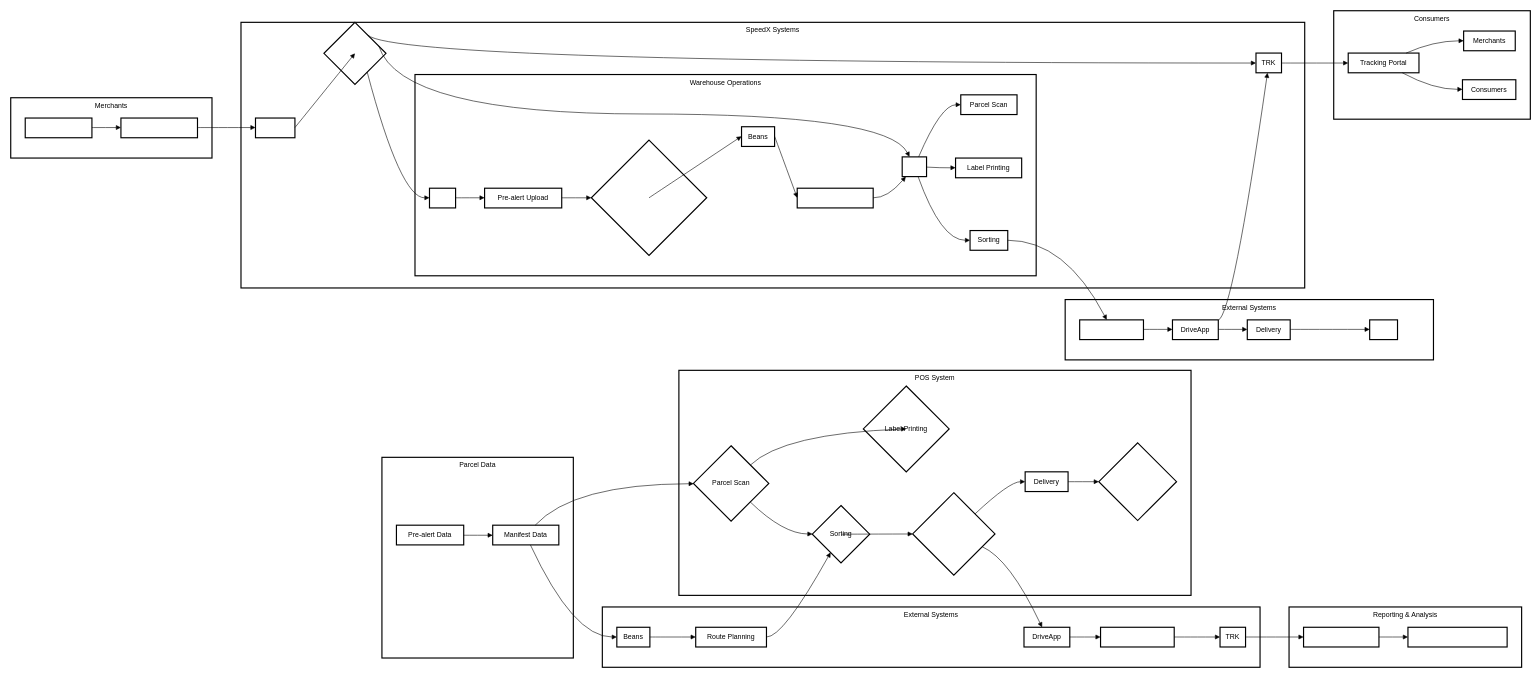
Some shapes in this 1540 by 677 pixel diagram are drawn without their labels. The shapes that lost their labels are listed below. From the top down, each one's centre as x and y in pixels, then its label:
(x=354, y=53): MariaDB
(x=58, y=127): Create Orders
(x=159, y=127): Generate Labels
(x=275, y=127): RPS API
(x=914, y=166): POS
(x=442, y=197): GEG
(x=648, y=197): Fixed Route Creation
(x=834, y=197): Route Download
(x=1111, y=329): Driver Pickup
(x=1383, y=329): DSPs
(x=1137, y=481): Return Scan
(x=953, y=533): Loading Scan
(x=1137, y=636): Tracking Events
(x=1341, y=636): Data Warehouse
(x=1457, y=636): Reports & Dashboards
